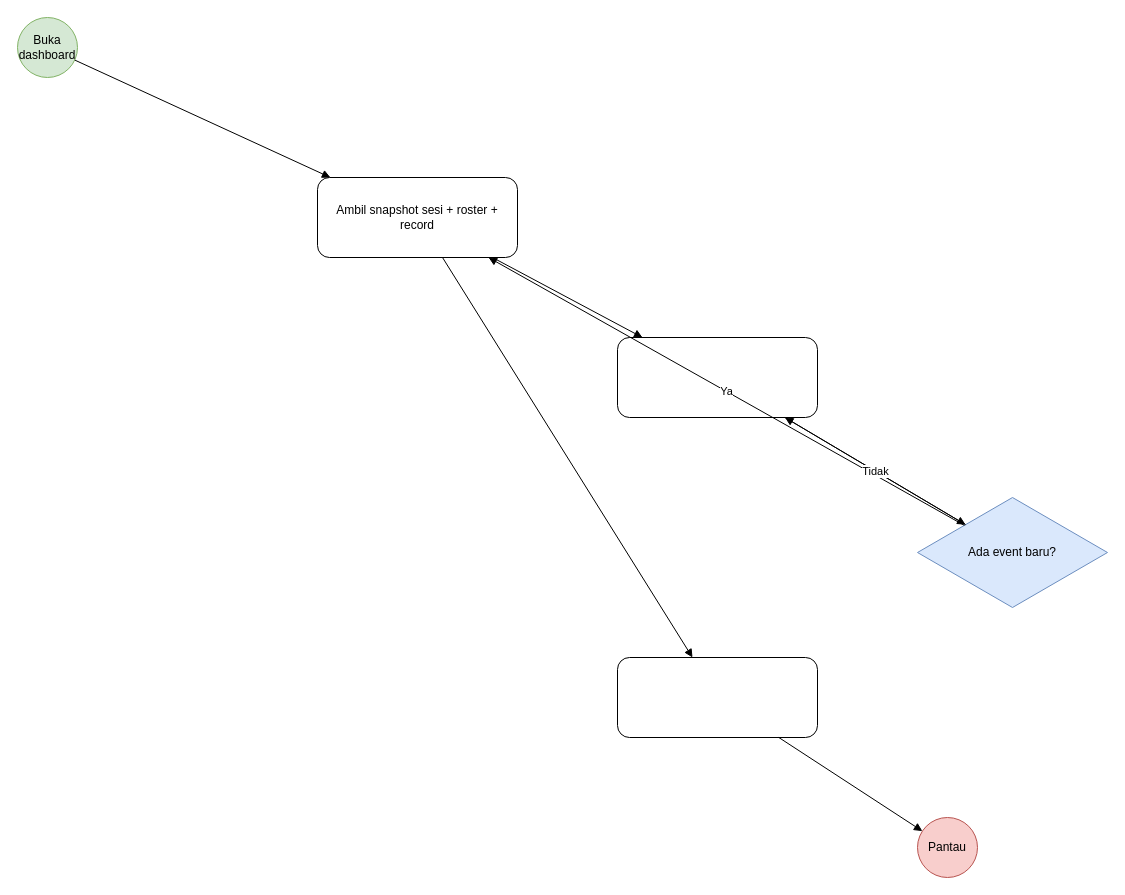
This 1125x895 diagram has some shape labels left out. Each missing label, with the centre of its shape:
Subscribe WebSocket; refresh tiap 2 detik: point (717, 377)
Tampilkan panel at-risk: 25 teratas + ambang efektif: point (717, 697)
